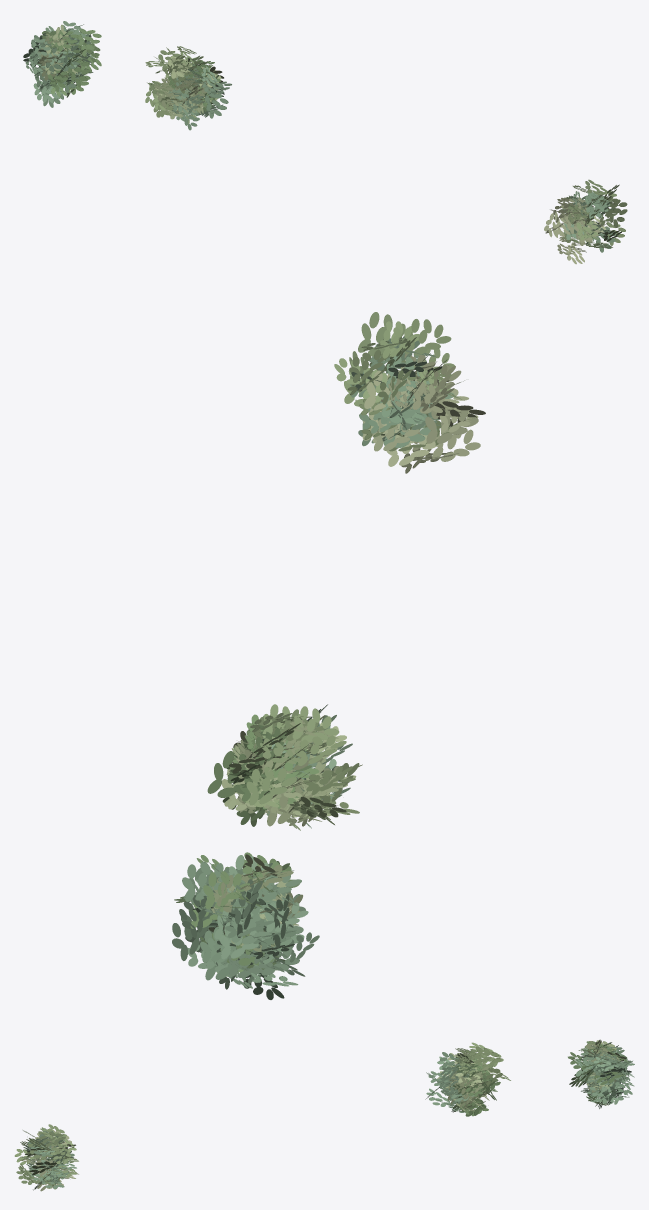
File: campus-tree--7_-8-far.glb
3 views of the same model, one above another, from view 1: azimuth 30°, elevation 25°; view 2: azimuth 150°, elevation 25°; view 3: azimuth 270°, elevation 25° (orthographic). The views are drawn at different scales.
Parts seen in each view (by area): view 1: Campus leaf canopy; view 2: Campus leaf canopy; view 3: Campus leaf canopy.
Boxes of the visible parts, x1,y1,x2,y2 form: Campus leaf canopy: [23, 21, 627, 264]; Campus leaf canopy: [172, 312, 485, 999]; Campus leaf canopy: [14, 1039, 634, 1191].
Size of the model in its own units: 22.53 by 7.23 by 45.57.
1 material, 1 textured.
